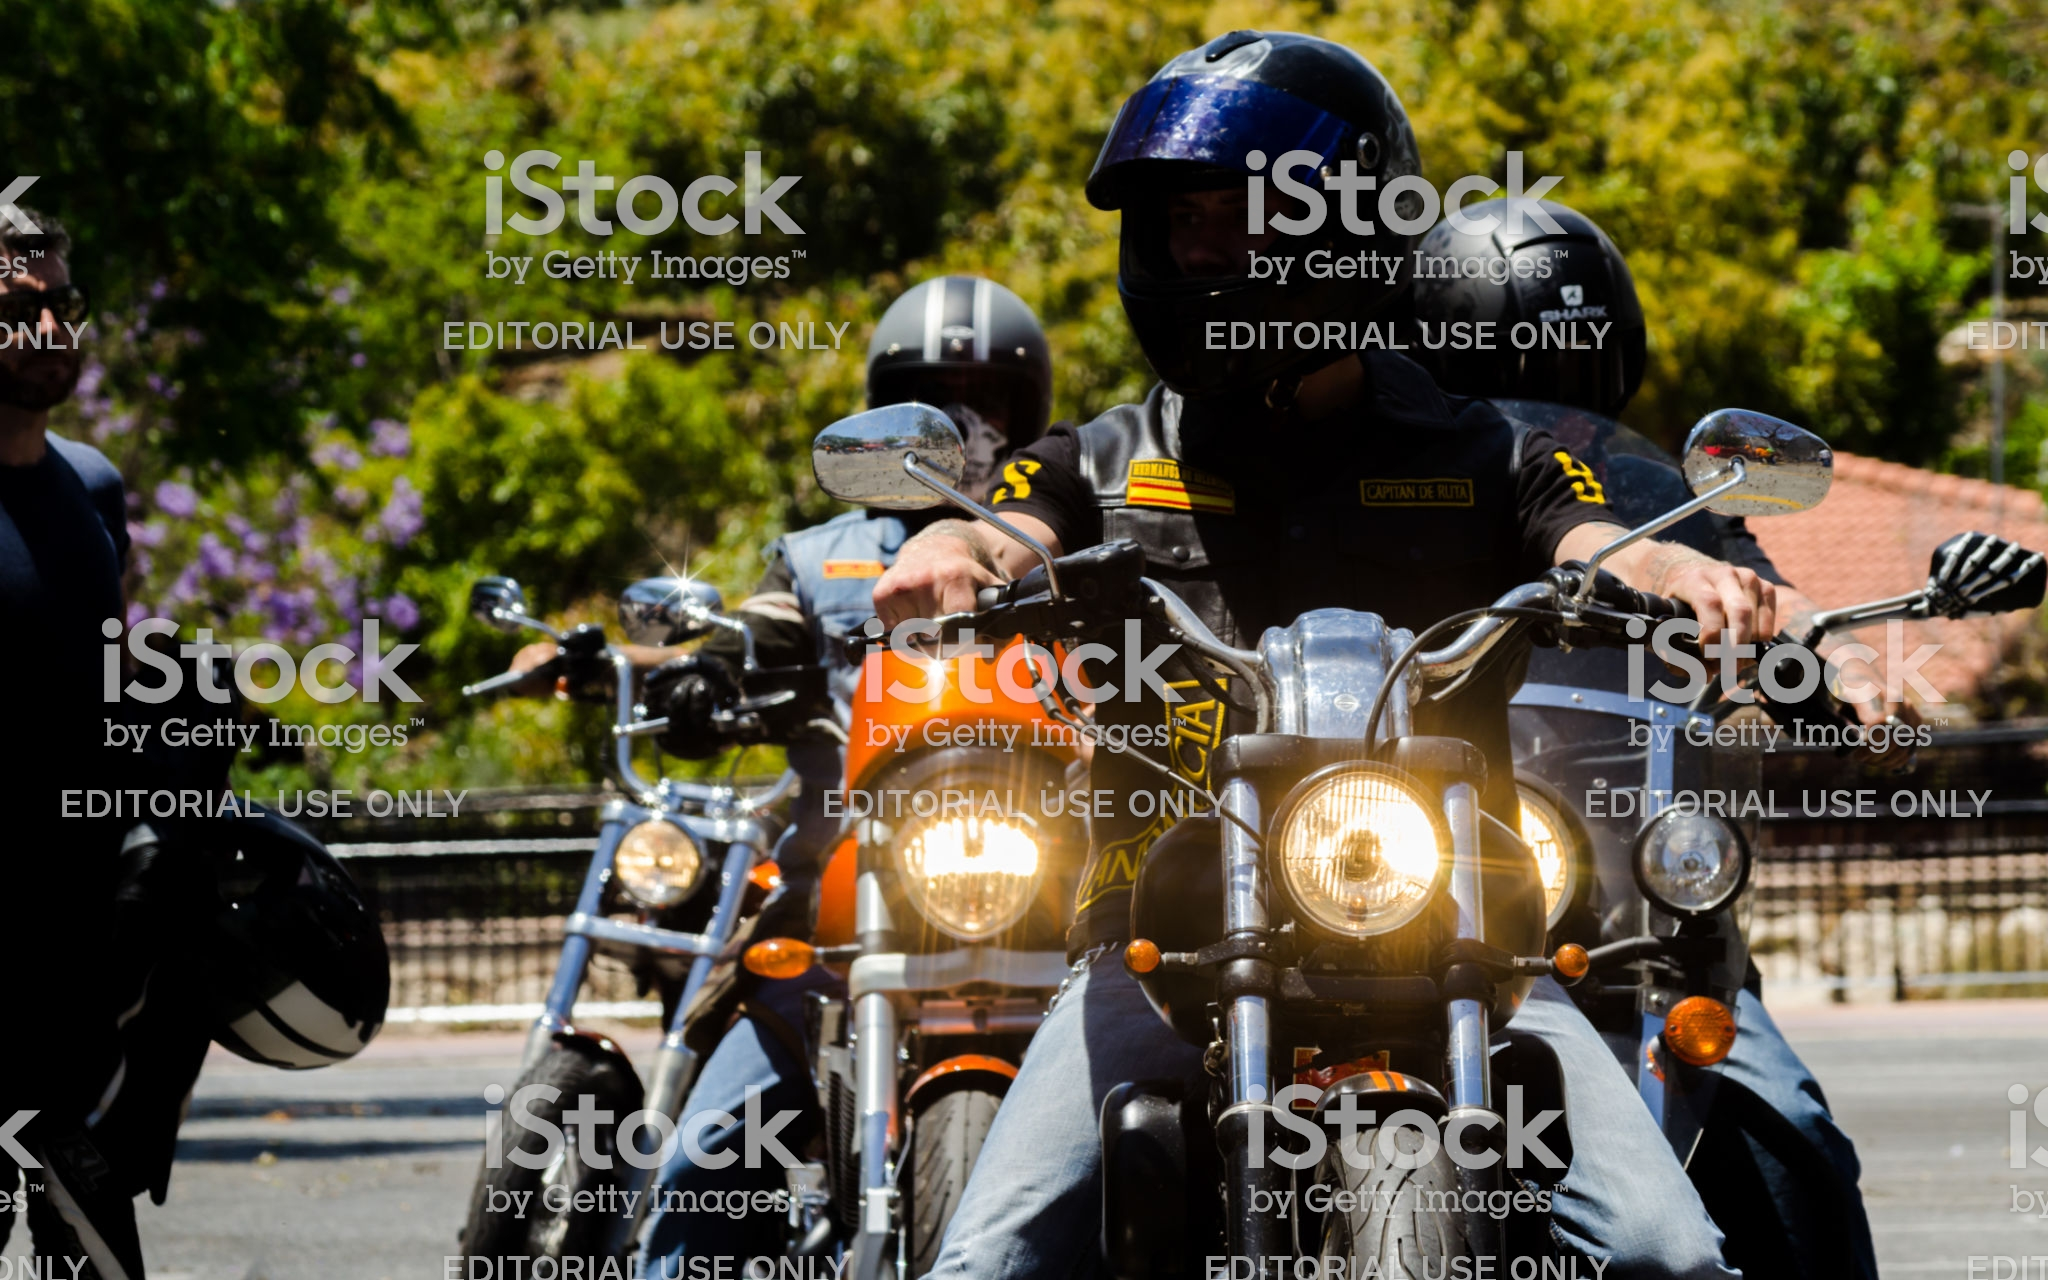helmet: (1066, 46, 1438, 375)
